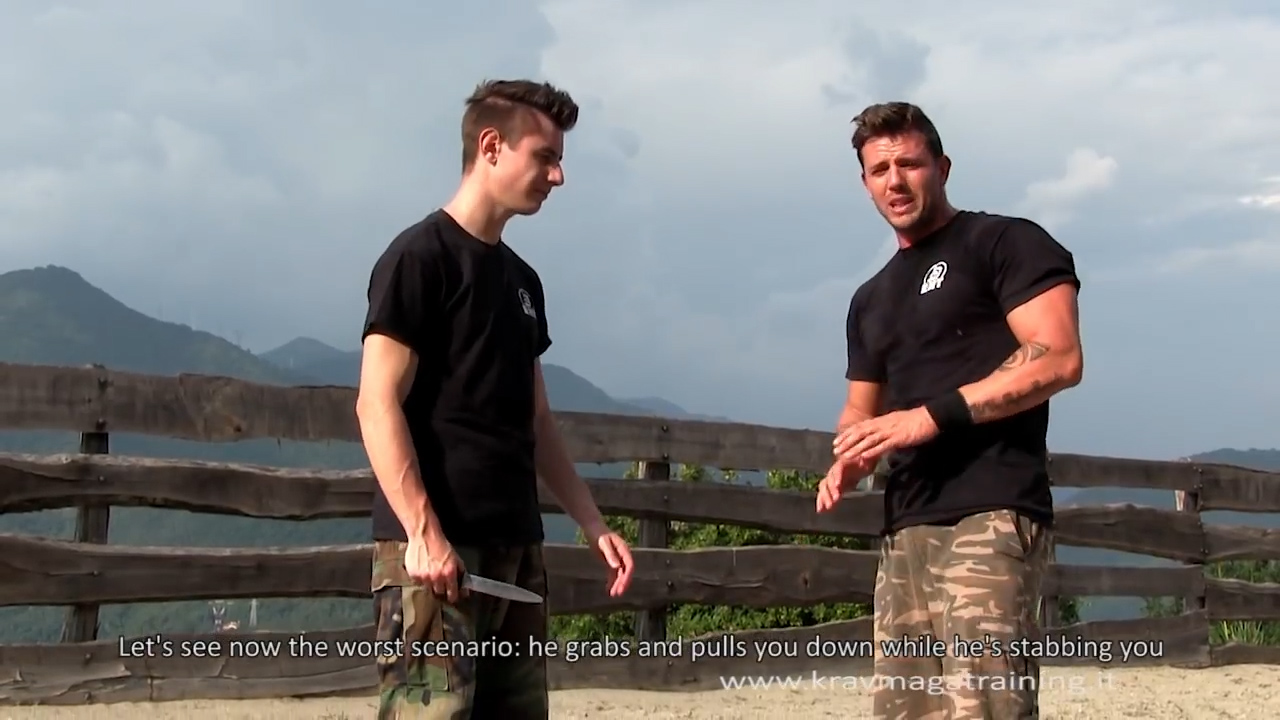knife: (401, 549, 558, 616)
